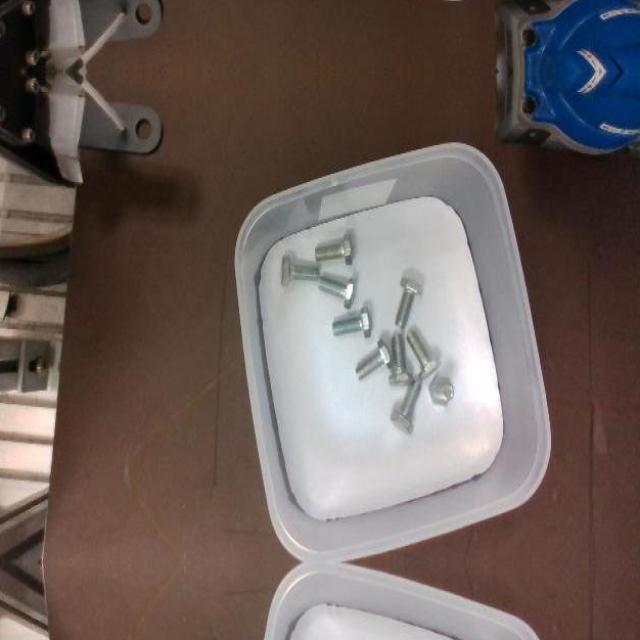screw: (406, 328, 442, 379), (354, 336, 394, 379), (390, 381, 421, 434), (395, 277, 424, 329), (387, 333, 412, 385), (318, 276, 357, 309), (331, 307, 370, 339), (315, 233, 352, 266), (280, 255, 318, 287), (428, 376, 454, 406)
